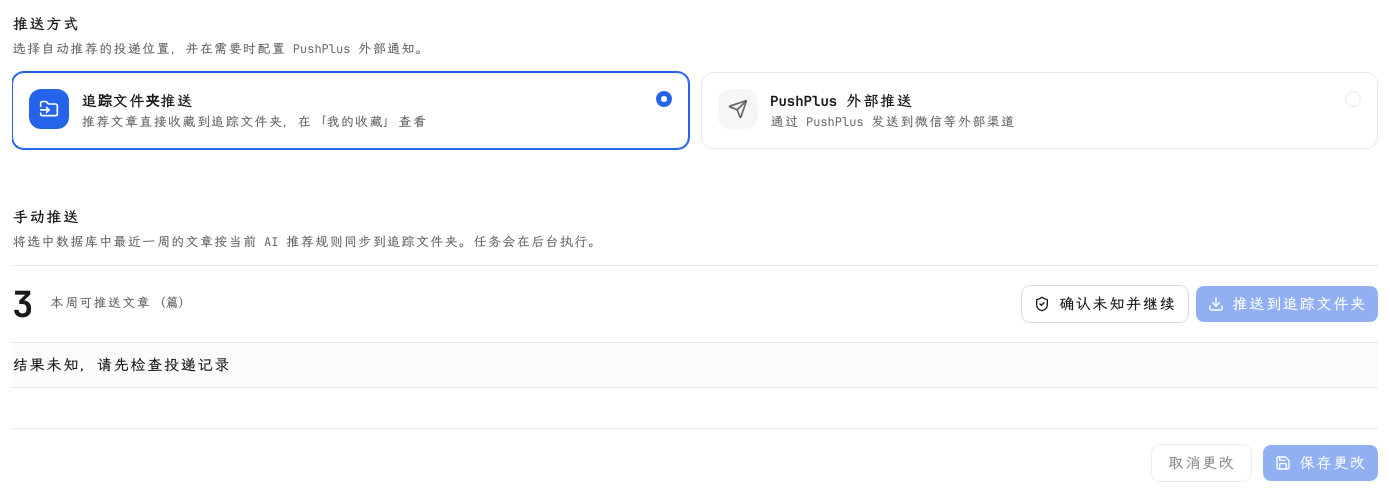
it: durable tracking job flow › acknowledges an unknown outcome only through the explicit action
Expected: the button "推送到追踪文件夹" is disabled, [1196,286,1378,322]
Expected: the button "取消任务" is not shown
Step 1. Click the button "确认未知并继续" → {"x": 1105, "y": 304}, box [1022,286,1188,322]
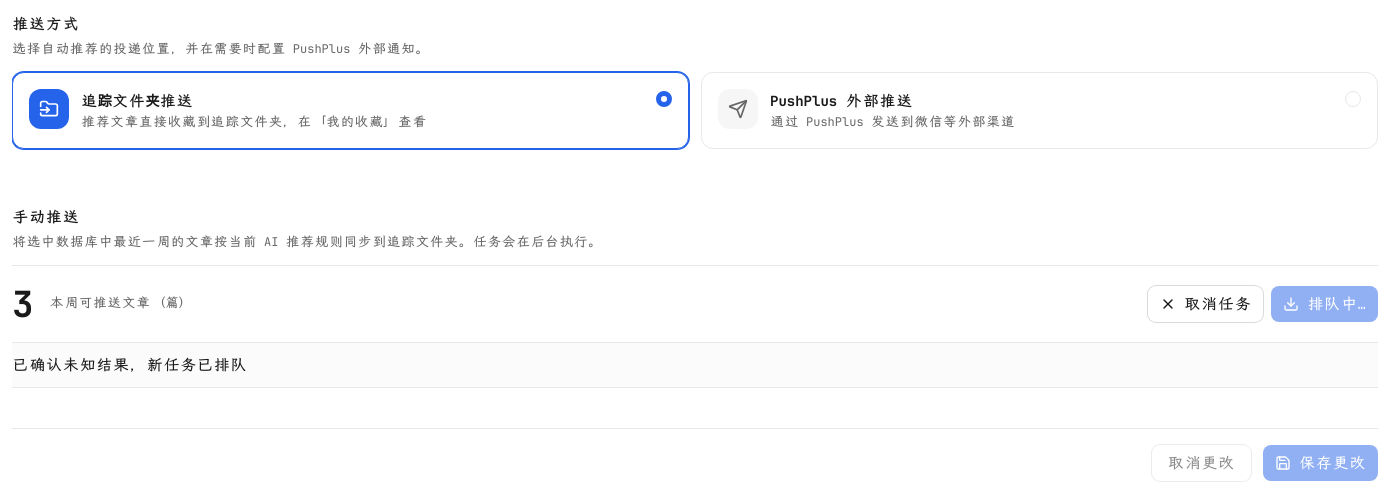
Expected: the button "排队中…" is disabled, [1271,286,1378,322]
Now the button "确认未知并继续" is gone
